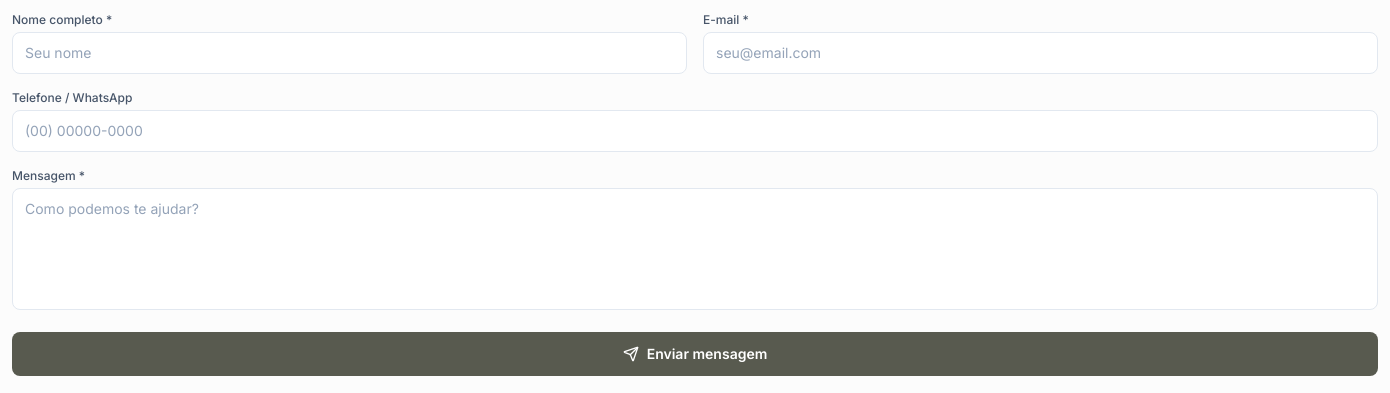
ContatoForm, validação › exibe confirmação após envio bem-sucedido
Step 1. Type "João Souza" into the field with placeholder "Seu nome" → (350,53), box [12, 32, 687, 74]
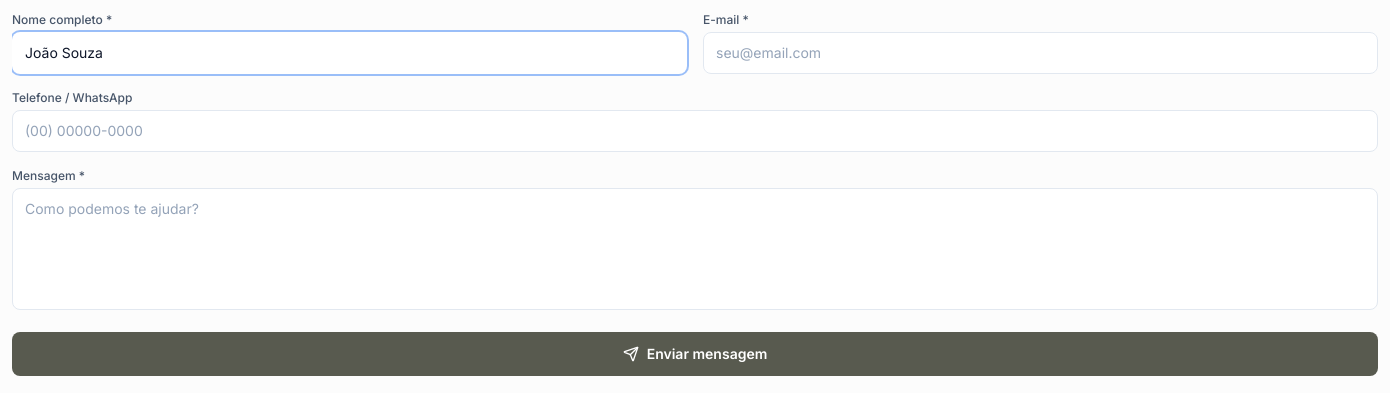
Step 2. Type "joao@email.com" into the field with placeholder "seu@email.com" → (1040,53), box [703, 32, 1378, 74]
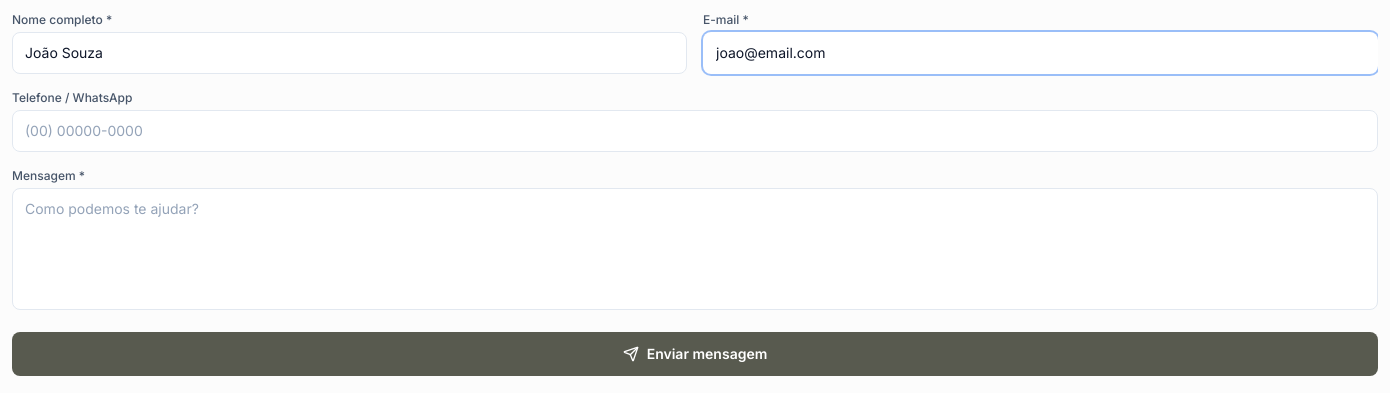
Step 3. Type "Tenho interesse." into the text box with placeholder "Como podemos te ajudar?" → (695,249), box [12, 188, 1378, 310]
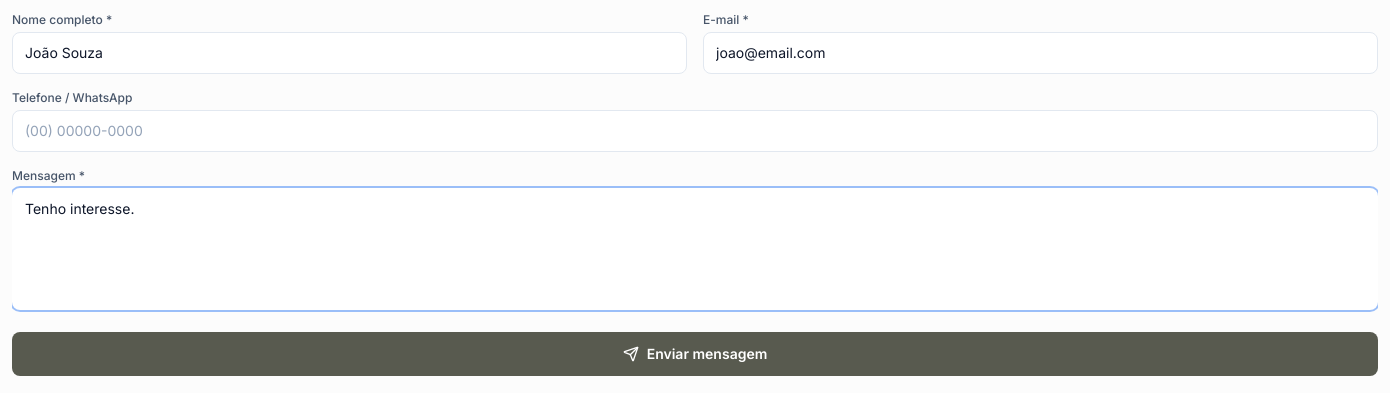
Step 4. Click the button "Enviar mensagem" → (695,354), box [12, 332, 1378, 376]
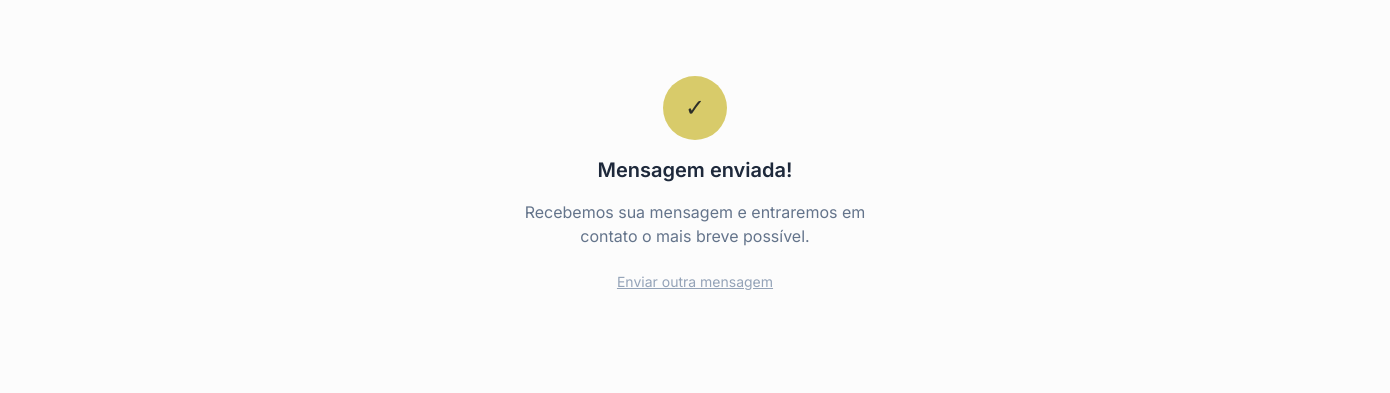
Expected: the heading "Mensagem enviada!" is shown, [598, 156, 792, 184]
